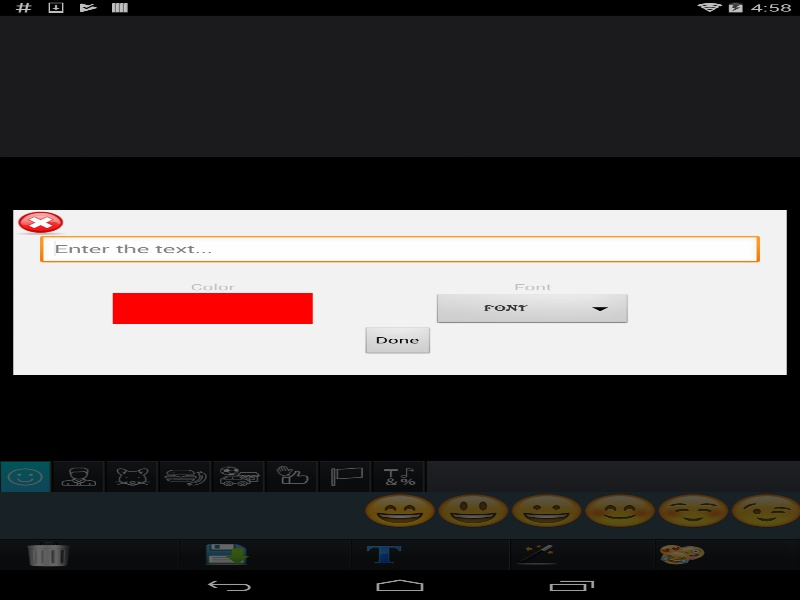Button: (112, 292, 312, 324), (361, 326, 434, 356), (13, 210, 66, 235)
Input: (40, 235, 760, 265)
